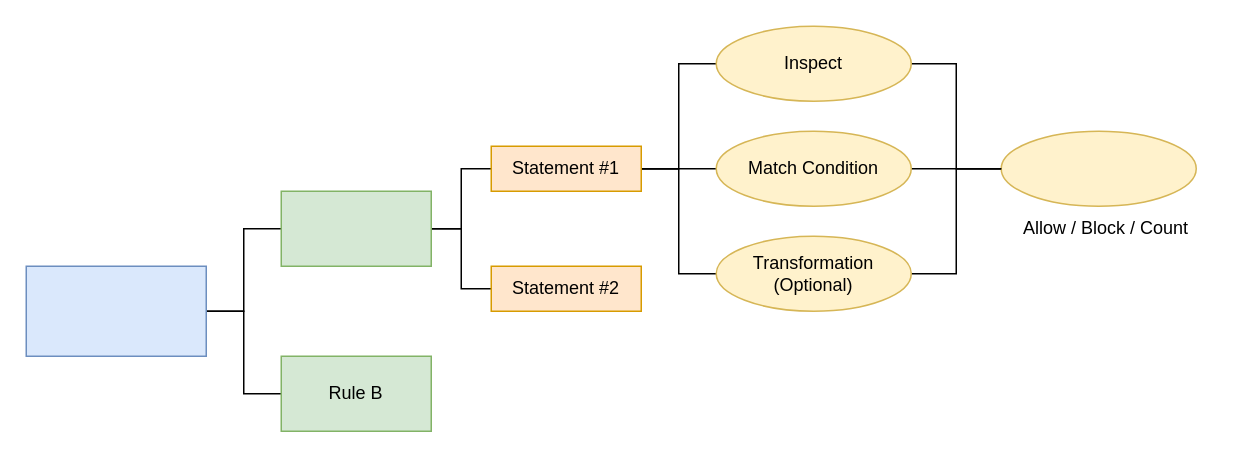
The diagram is 1238 pixels wide and 458 high, and some of its shapes have lost their labels. Here are the shapes that lost their labels. From the top down, the centre of each, then its label:
At (1098,168): "Action".
At (355,228): "Rule A".
At (115,310): "Web ACL".
